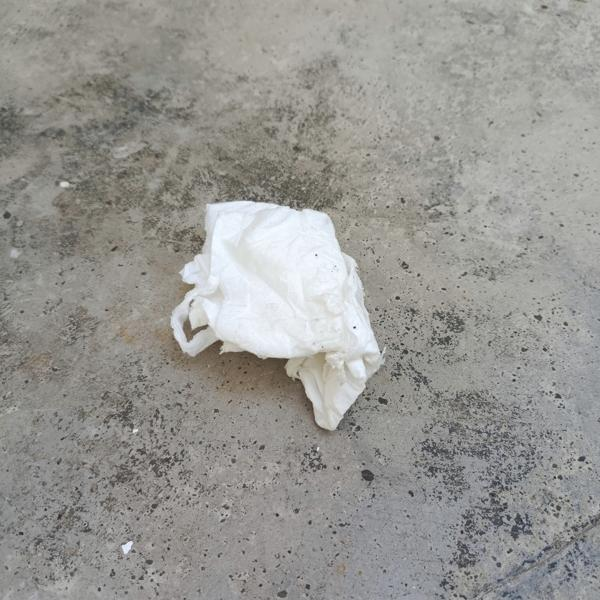Organik: (156, 170, 397, 441)
